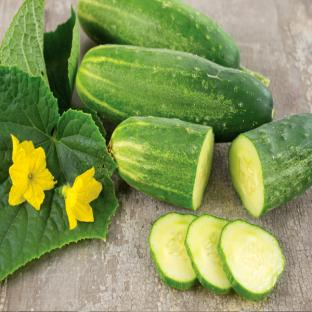Cucumber: (76, 46, 274, 142), (78, 0, 240, 68), (111, 117, 214, 210), (229, 114, 311, 217), (218, 220, 284, 301), (149, 213, 198, 289), (186, 215, 231, 293)
